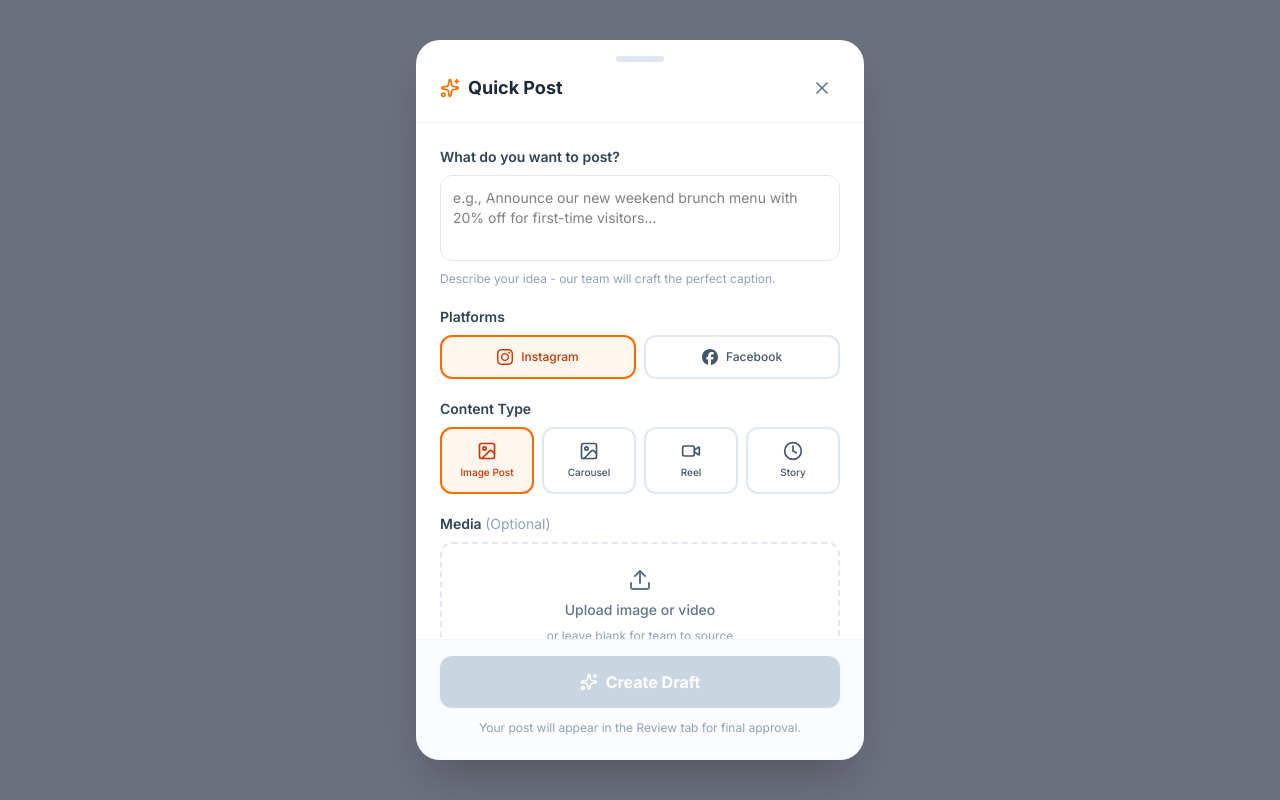
Test: AdhocPostModal Component › Branch coverage additions › should show STORY media hint when STORY post type is selected
Click the button with test id "type-story": coordinates (793, 460) [746,427,840,494]
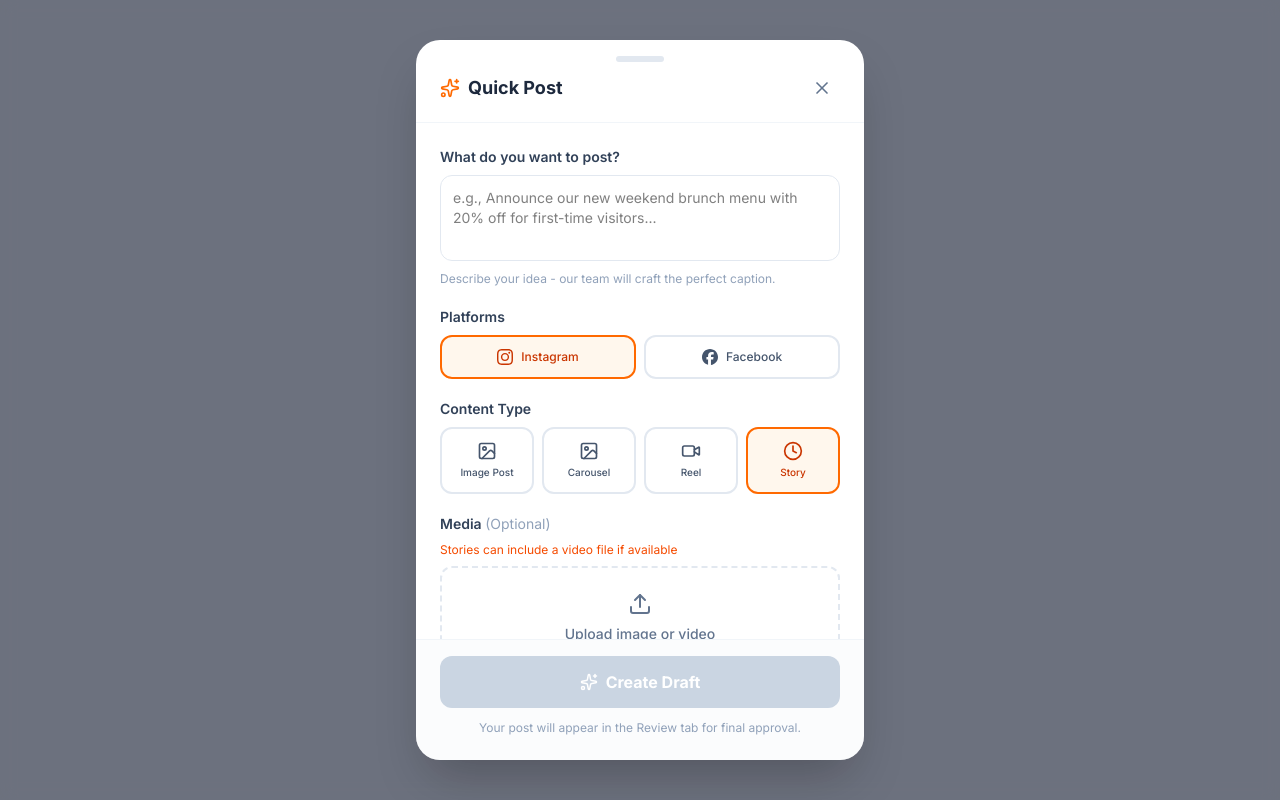
Now the text "Stories can include a video file if available" is shown, box [440,542,678,557]
